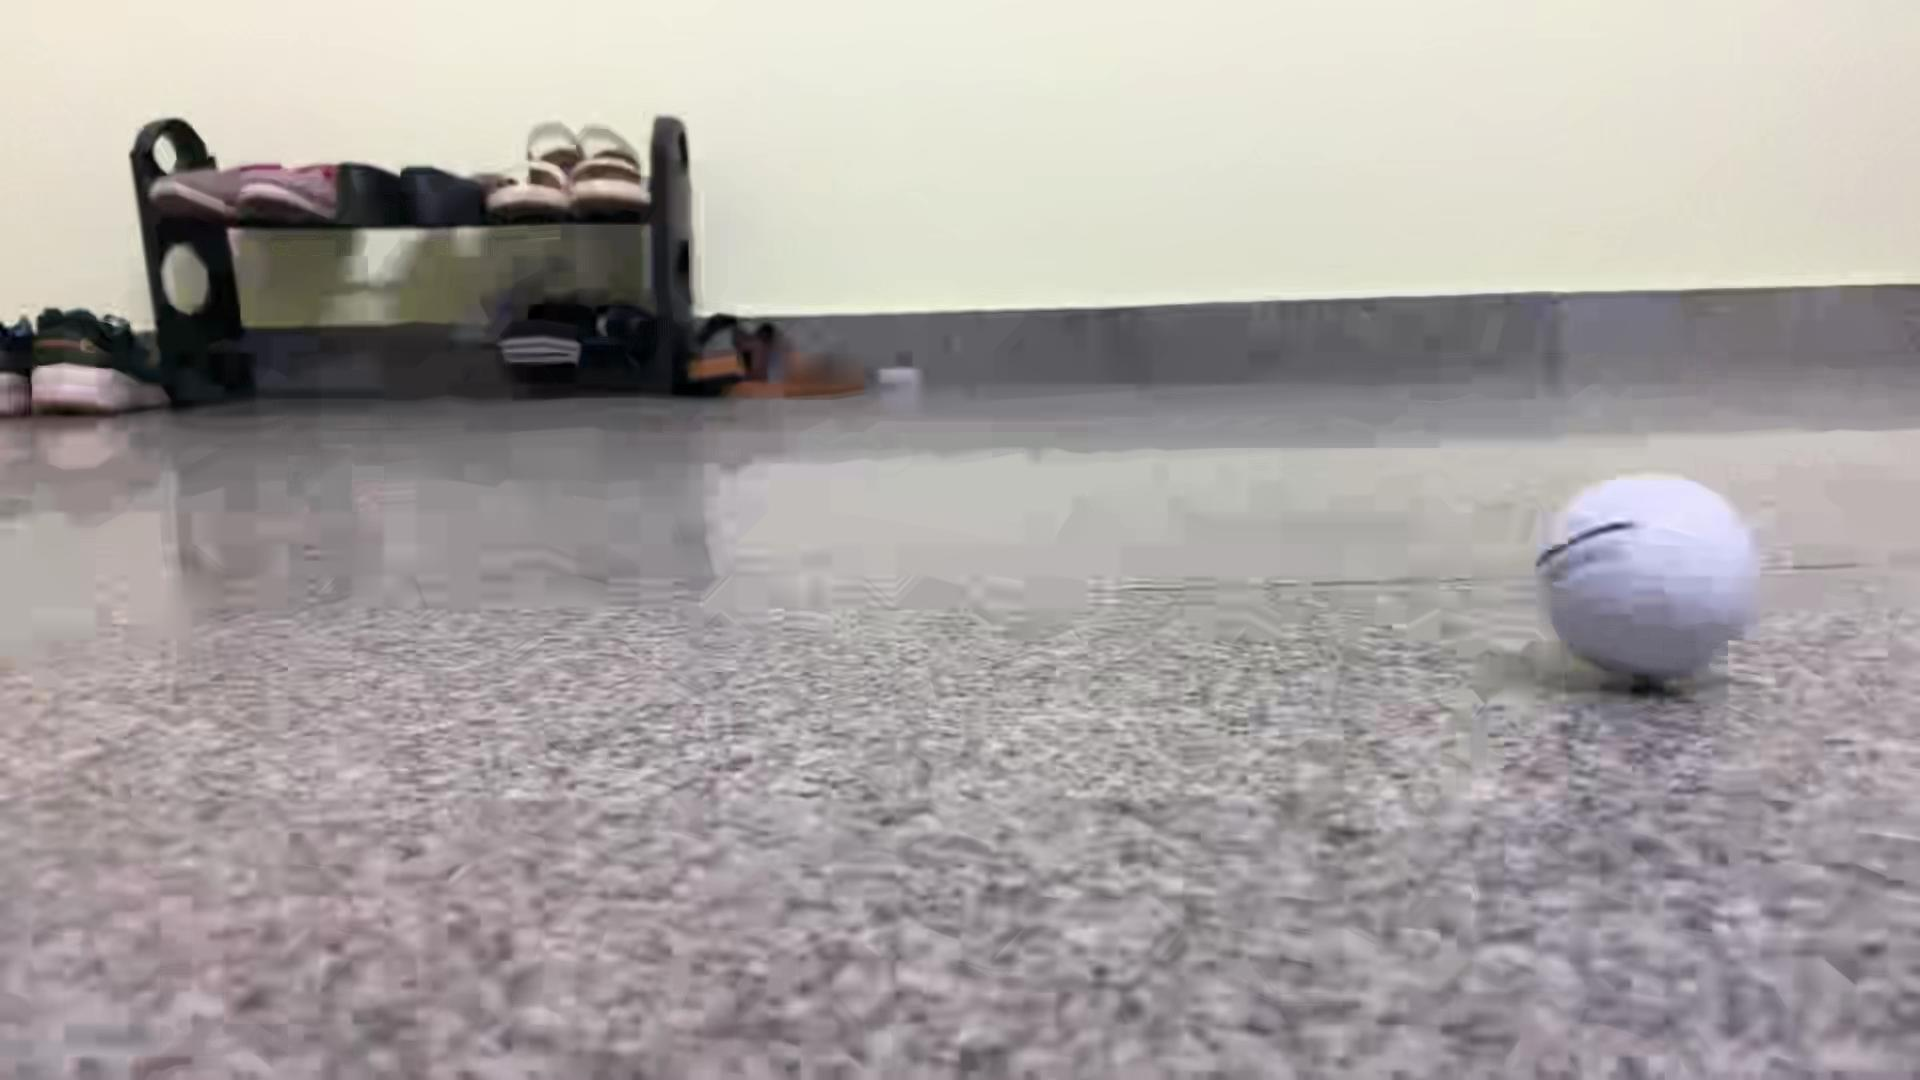golfball: (1537, 474, 1764, 678)
